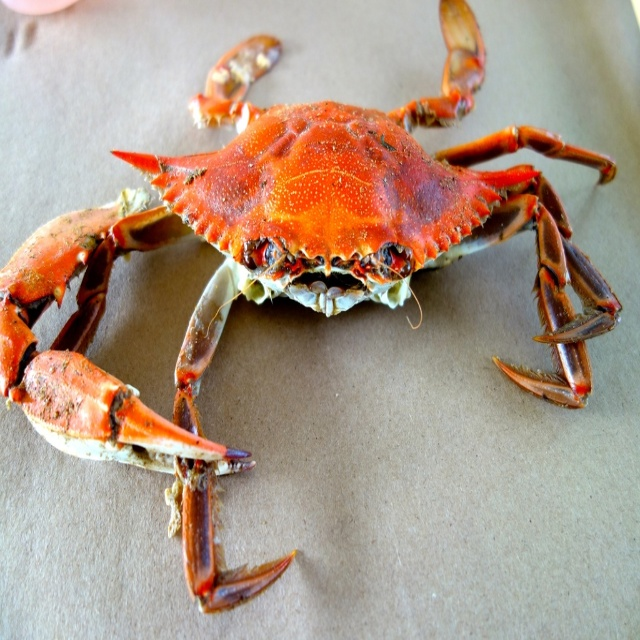Crab: (0, 0, 624, 618)
